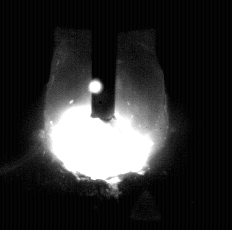arame: (92, 0, 116, 123)
poca: (42, 0, 169, 230)
